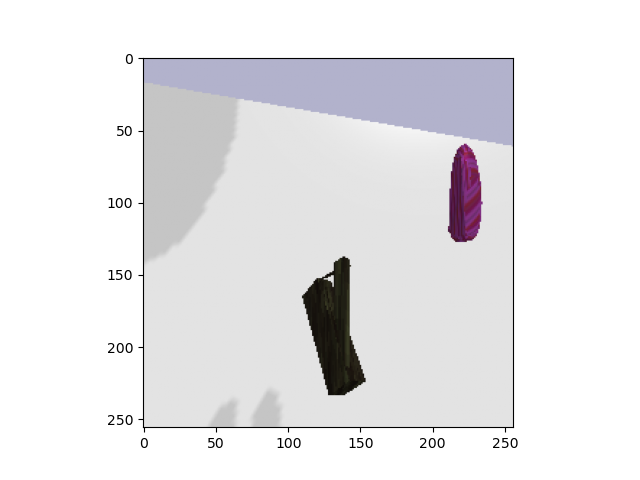v249b387_105: (445, 143, 488, 246)
v249b387_109: (295, 255, 376, 402)
